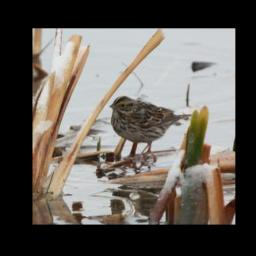Sparrow: (108, 94, 193, 165)
